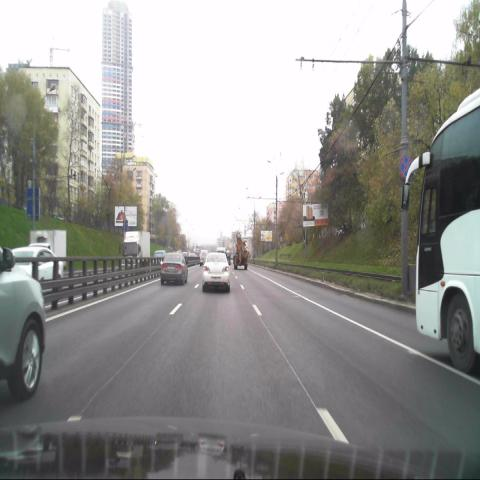3_27: (399, 154, 412, 177)
